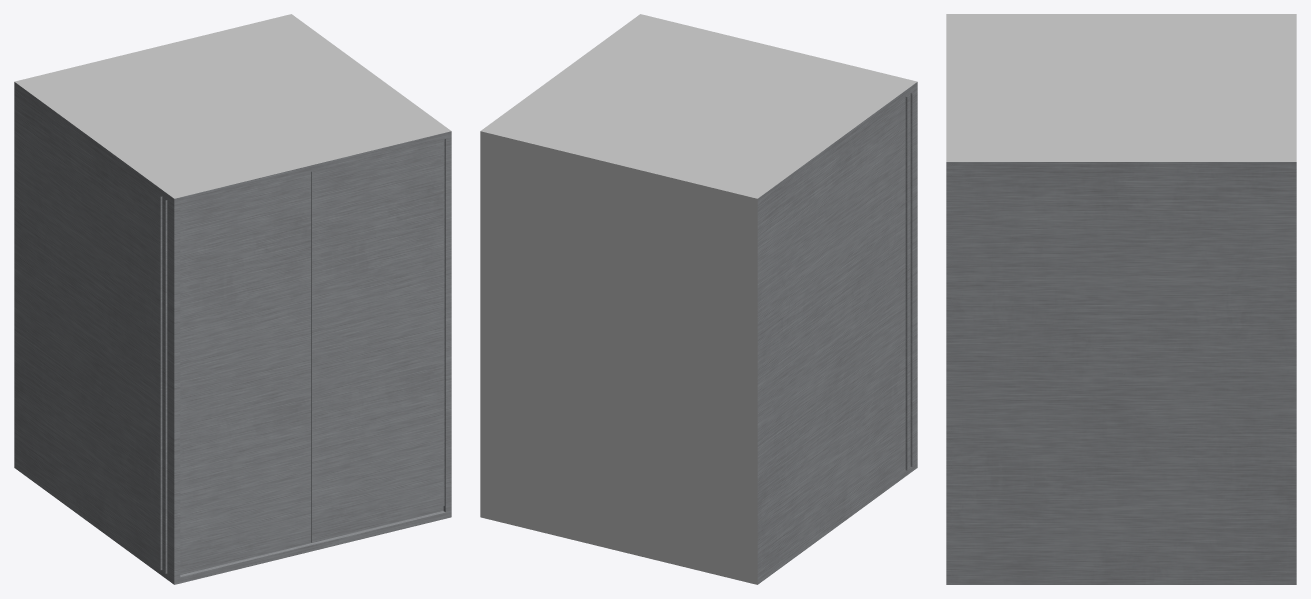
Rendered from Elvator.fbx.
3 views of the same model, side by side, from view 1: azimuth 30°, elevation 25°; view 2: azimuth 150°, elevation 25°; view 3: azimuth 270°, elevation 25° (orthographic). The views are drawn at different scales.
Visible parts, largest first — view 1: Cube, Cube.003, Cube.002, Cube.006, Cube.007; view 2: Cube, Cube.006; view 3: Cube.
Part boxes in pixels (bbox=[...]): Cube: bbox=[14, 14, 451, 584]; Cube.003: bbox=[311, 139, 443, 542]; Cube.002: bbox=[180, 172, 311, 574]; Cube.006: bbox=[160, 196, 167, 573]; Cube.007: bbox=[443, 139, 444, 505]; Cube: bbox=[480, 14, 917, 584]; Cube.006: bbox=[905, 93, 912, 470]; Cube: bbox=[946, 14, 1296, 584].
Size of the model in its own units: 132 by 173 by 130.
